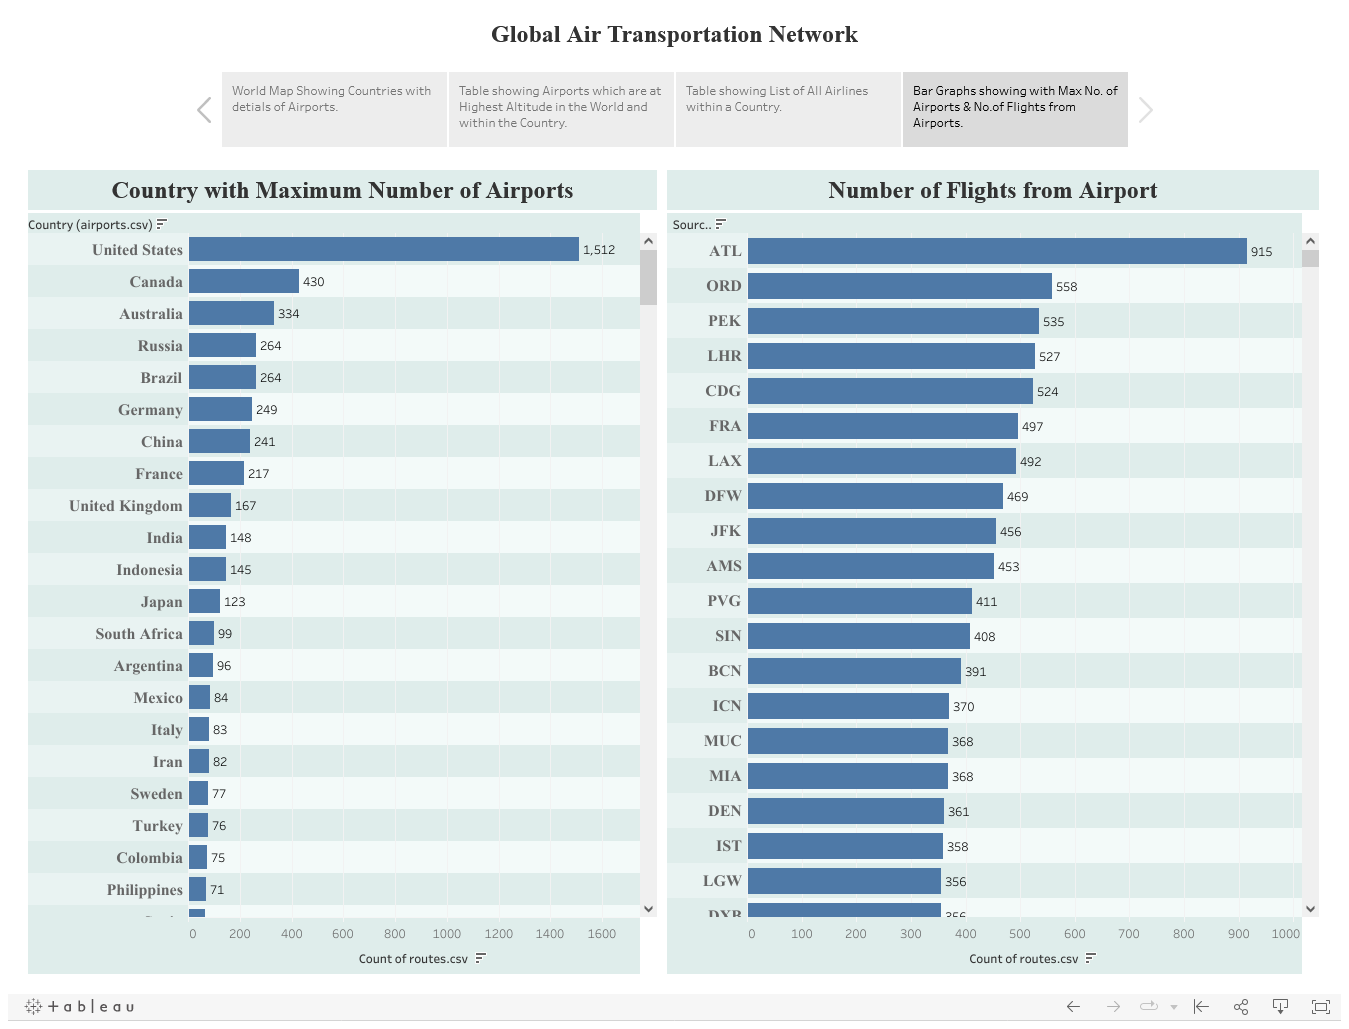

The page's visual inventory and layout, read from the dashboard file:
{"tool":"tableau","page":{"name":"Dashboard 4","canvas":[1000,1000],"units":"permille","ordinal":3},"visuals":[{"type":"worksheet","title":"No. of flights country","mark":"Automatic","rows":["Country (airports.csv)"],"cols":["routes.csv_1FC34CD0C0894C4DB2CD31CA8D420330"],"box":[6.9,13.5,484,973]},{"type":"worksheet","title":"NO. Of flights","mark":"Automatic","rows":["Source airport"],"cols":["routes.csv_1FC34CD0C0894C4DB2CD31CA8D420330"],"box":[490.9,13.5,502.2,973]}]}

Visuals, with their boxes on the dashboard's canvas, which has no fixed pixel size, in thousandths of its width and height (x1, y1, x2, y2). These are canvas units, not pixel positions in the 1349x1029 screenshot, which may show the page scaled, cropped or inside an application window:
"No. of flights country" worksheet: x1=7 y1=14 x2=491 y2=986
"NO. Of flights" worksheet: x1=491 y1=14 x2=993 y2=986
